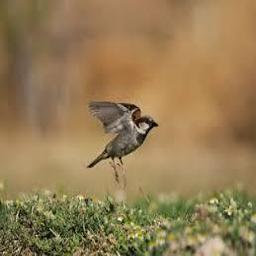Sparrow: (86, 102, 159, 189)
